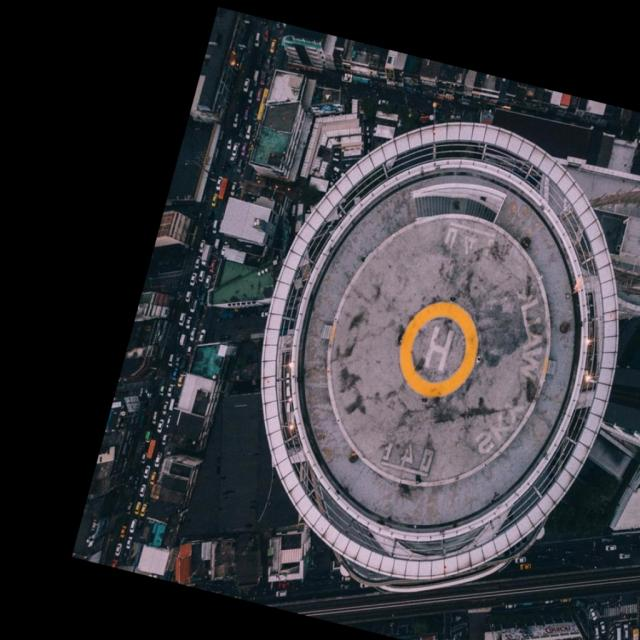helipad: (394, 296, 480, 401)
